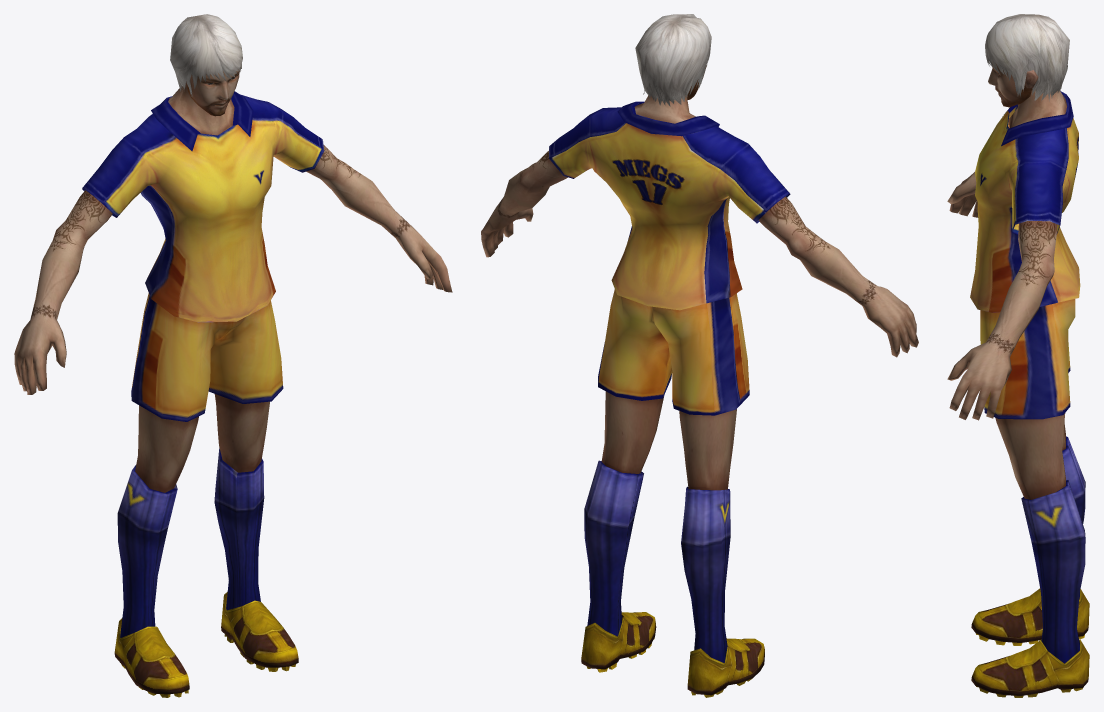
Rendered from soccer_player_0001.fbx.
The picture shows the model from 3 angles, left to right: view 1: azimuth 30°, elevation 25°; view 2: azimuth 150°, elevation 25°; view 3: azimuth 270°, elevation 25°; orthographic projection.
Visible parts, largest first — view 1: soccer_player_obj_1; view 2: soccer_player_obj_1; view 3: soccer_player_obj_1.
Boxes of the visible parts, bbox=[...] form: soccer_player_obj_1: bbox=[14, 14, 452, 697]; soccer_player_obj_1: bbox=[481, 14, 918, 697]; soccer_player_obj_1: bbox=[947, 14, 1089, 697].
Size of the model in its own units: 68.15 by 100 by 19.95.
5 materials, 5 textured.
